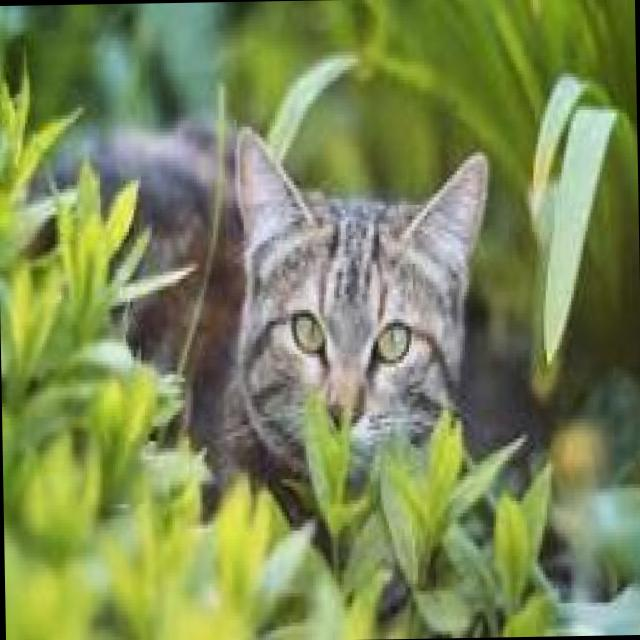Gato: (4, 89, 516, 576)
